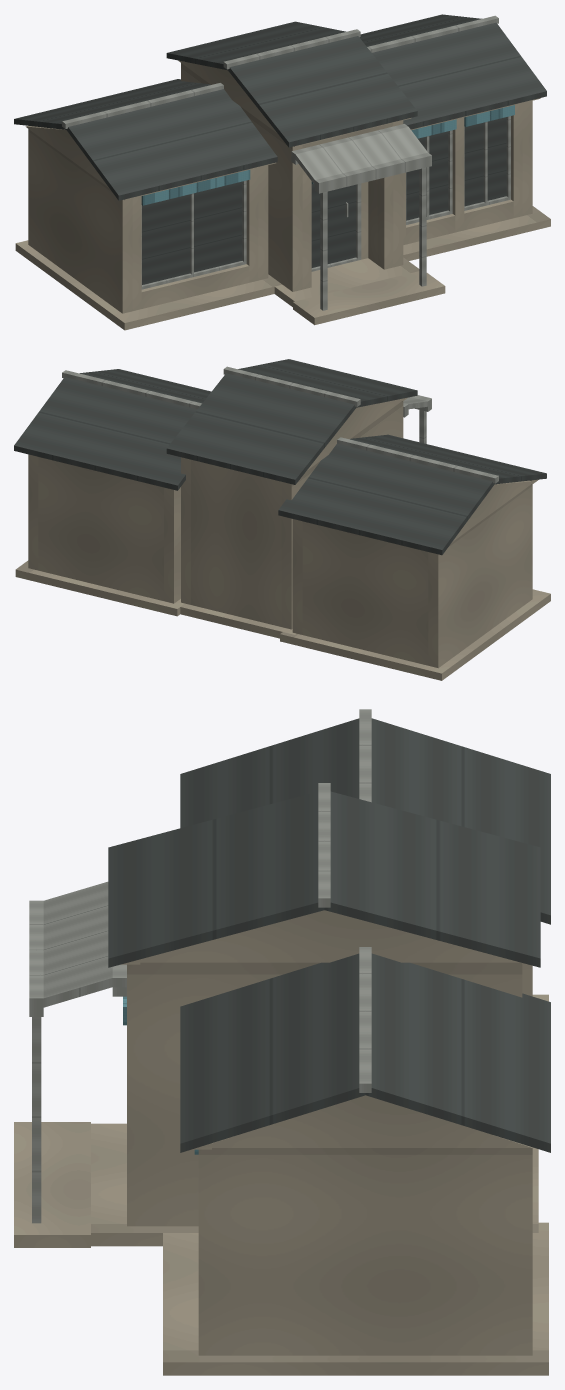
The model's file is cockburn-town.glb.
3 renders of one model, top to bottom at view 1: azimuth 30°, elevation 25°; view 2: azimuth 150°, elevation 25°; view 3: azimuth 270°, elevation 25°, orthographic. The views are drawn at different scales.
Visible parts, largest first — view 1: cockburn-town; view 2: cockburn-town; view 3: cockburn-town.
Boxes of the visible parts, x1,y1,x2,y2 form: cockburn-town: [14, 14, 550, 330]; cockburn-town: [14, 359, 550, 680]; cockburn-town: [14, 709, 550, 1375].
Bounding box in the file's own units: 8.46 × 3.7 × 5.13.
Materials: 1 (1 with a texture image).
